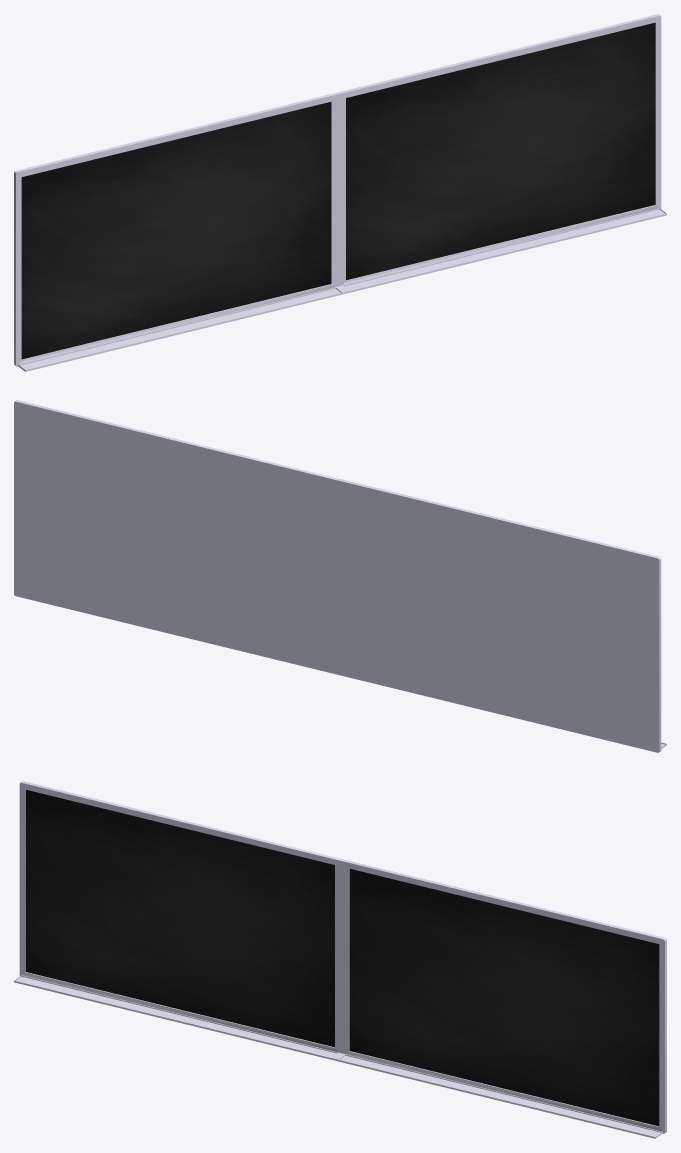
The model's file is Blackboard.fbx.
The picture shows the model from 3 angles, top to bottom: view 1: azimuth 30°, elevation 25°; view 2: azimuth 150°, elevation 25°; view 3: azimuth 330°, elevation 25°; orthographic projection.
Parts seen in each view (by area): view 1: Blackboard; view 2: Blackboard; view 3: Blackboard.
Part boxes in pixels (x1=…): Blackboard: x1=14, y1=14, x2=666, y2=371; Blackboard: x1=14, y1=400, x2=666, y2=752; Blackboard: x1=14, y1=781, x2=666, y2=1138.
Bounding box in the file's own units: 347 × 100 × 9.03.
